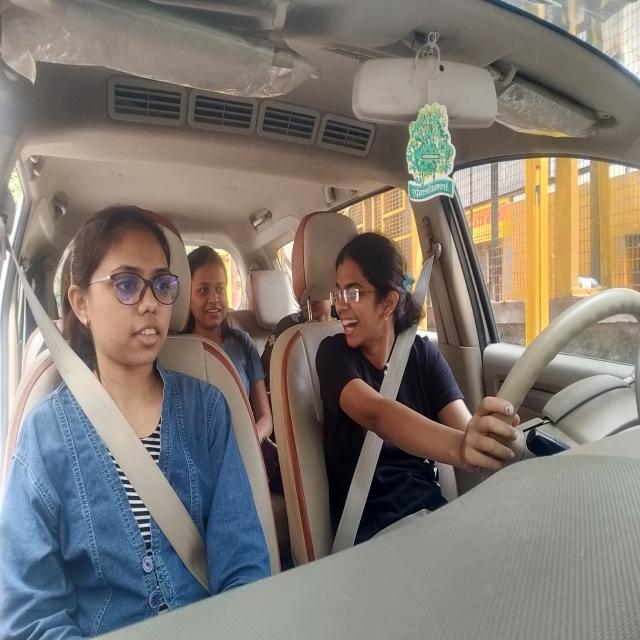LeftRight: (328, 237, 407, 351)
person: (65, 208, 180, 372), (187, 246, 233, 329)
talking: (338, 311, 369, 342)
